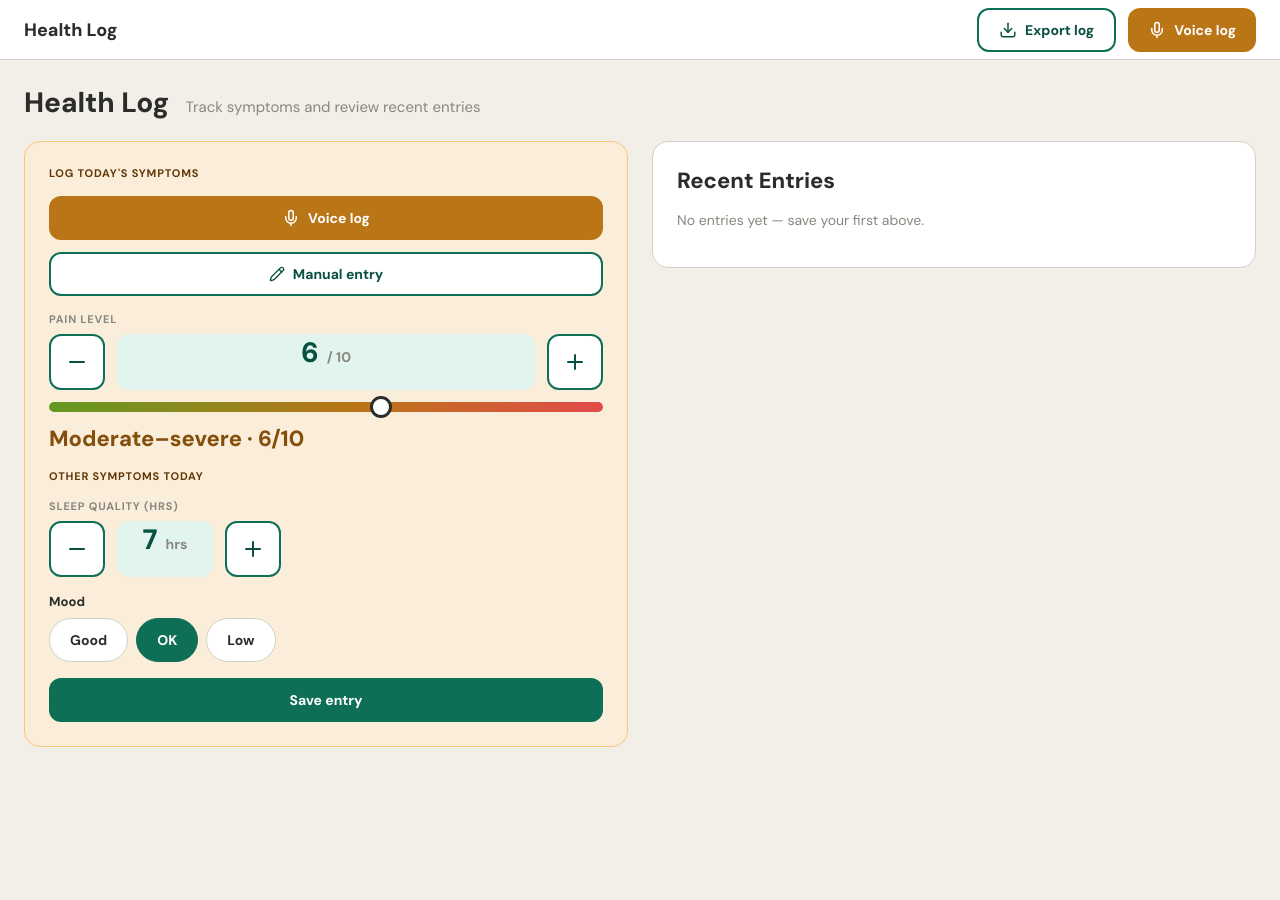
it: HealthLogScreen › adjusts pain via the stepper and updates the descriptor
Expected: the text "Moderate–severe · 6/10" is shown, [49,424,304,453]
Click the button named "Increase Pain level": (575, 362) [547,334,603,390]
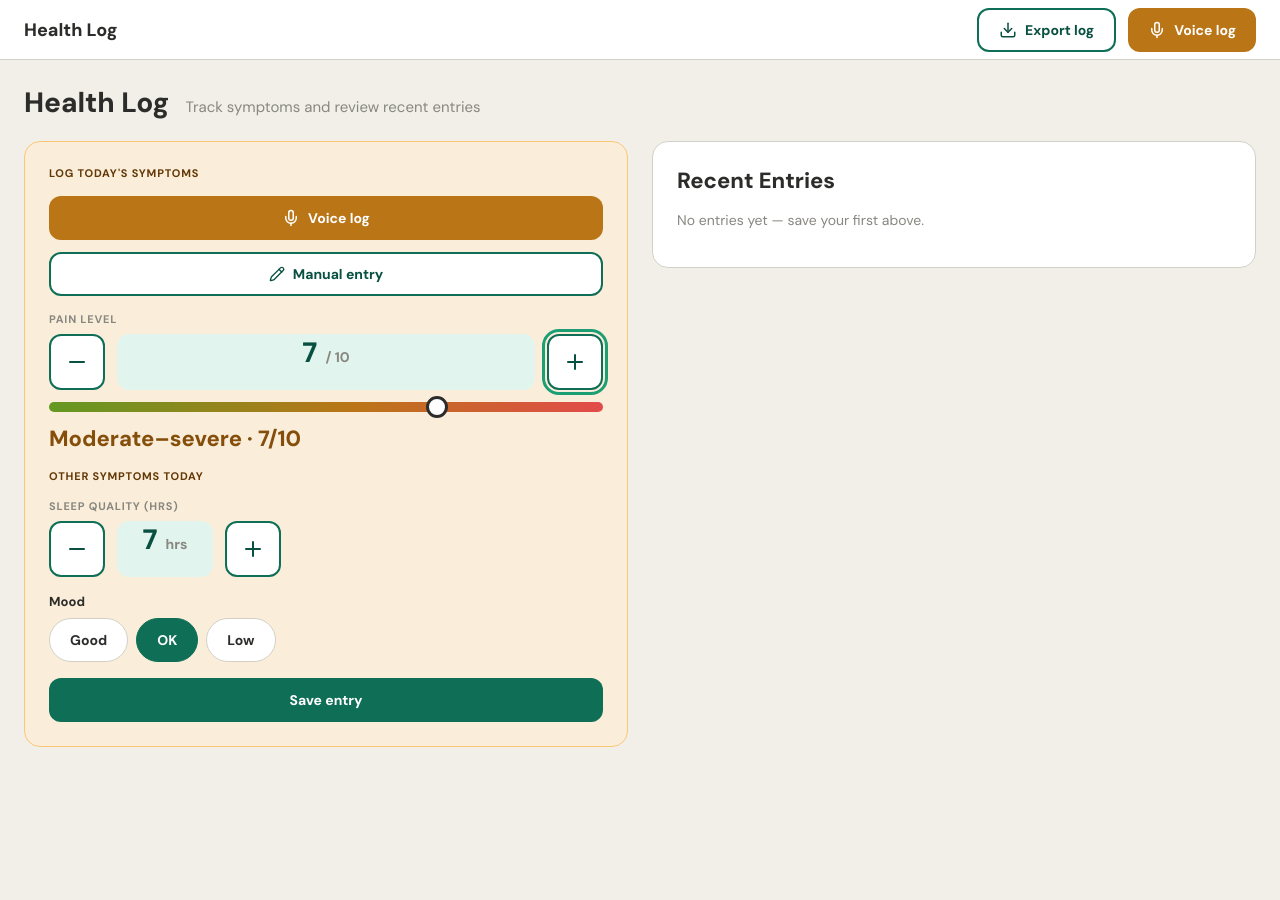
Expected: the text "Moderate–severe · 7/10" is shown, [49,424,301,453]
